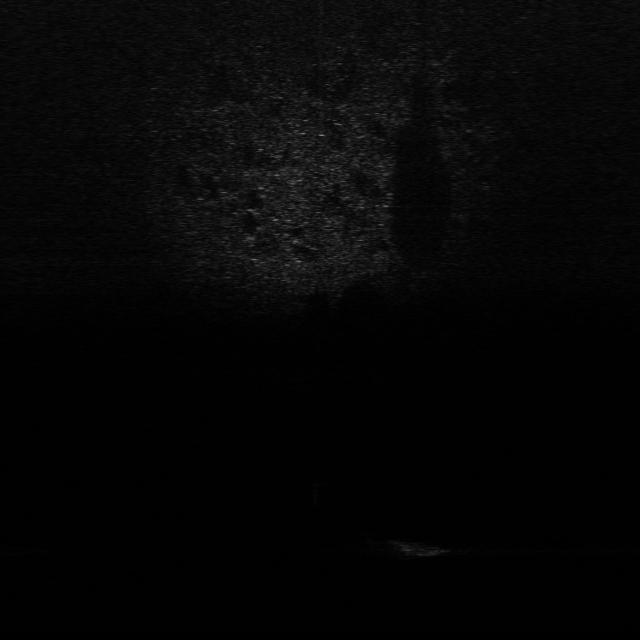metal bucket: (389, 534, 457, 561)
